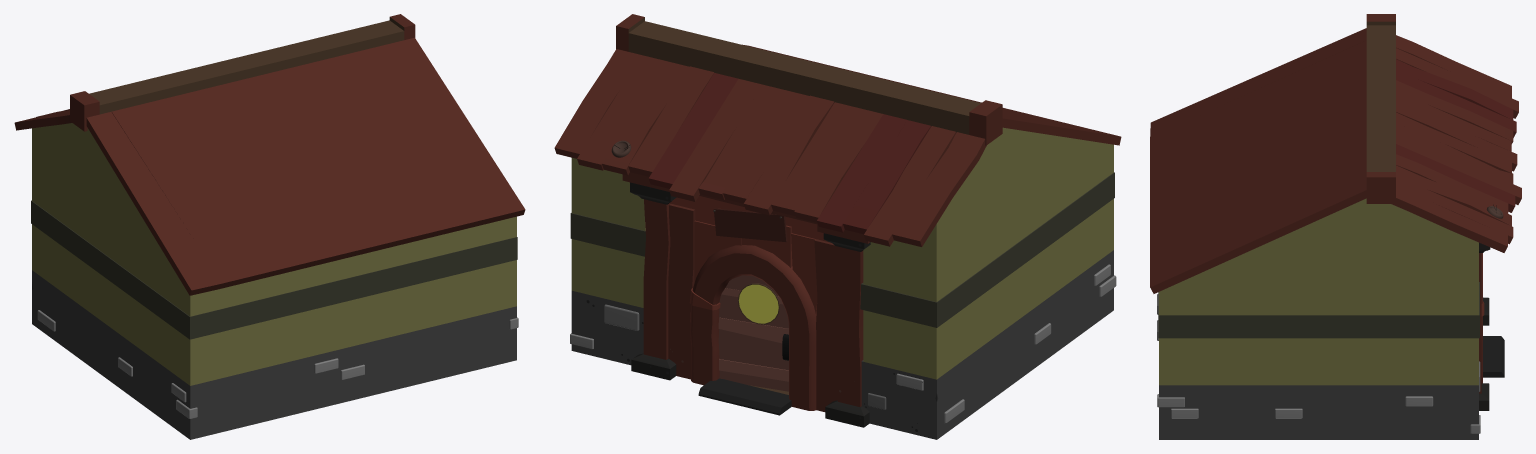
File: smolhouse.fbx
The picture shows the model from 3 angles, left to right: view 1: azimuth 30°, elevation 25°; view 2: azimuth 150°, elevation 25°; view 3: azimuth 270°, elevation 25°; orthographic projection. The views are drawn at different scales.
Visible parts, largest first — view 1: SmallHouse2; view 2: SmallHouse2; view 3: SmallHouse2.
Boxes of the visible parts, bbox=[...] form: SmallHouse2: bbox=[14, 14, 525, 439]; SmallHouse2: bbox=[554, 14, 1121, 439]; SmallHouse2: bbox=[1150, 14, 1521, 439].
Bounding box in the file's own units: 15.44 × 11.48 × 14.69.
